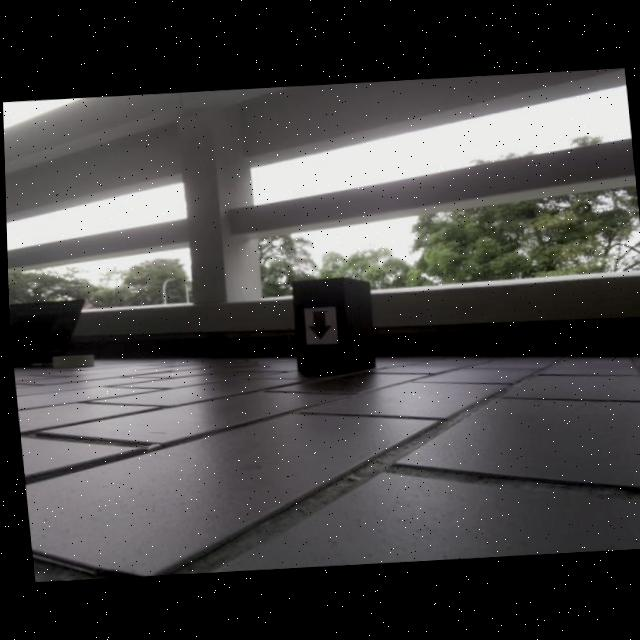DOWN: (305, 309, 331, 338)
